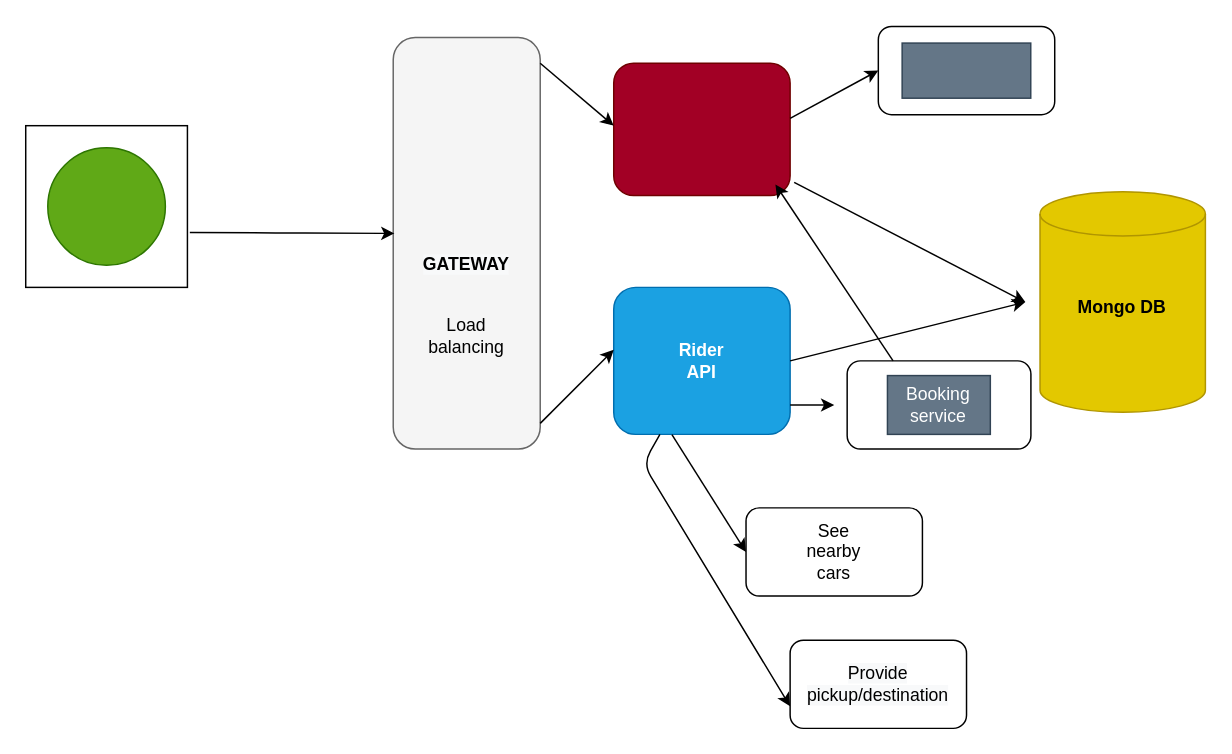
This 1232x754 diagram has some shape labels left out. Here are the shapes that lost their labels. From the top down, the centre of each, then its label:
the point at 966,70: Accept/Reject Rides
the point at 701,129: Driver API
the point at 105,205: Client App
